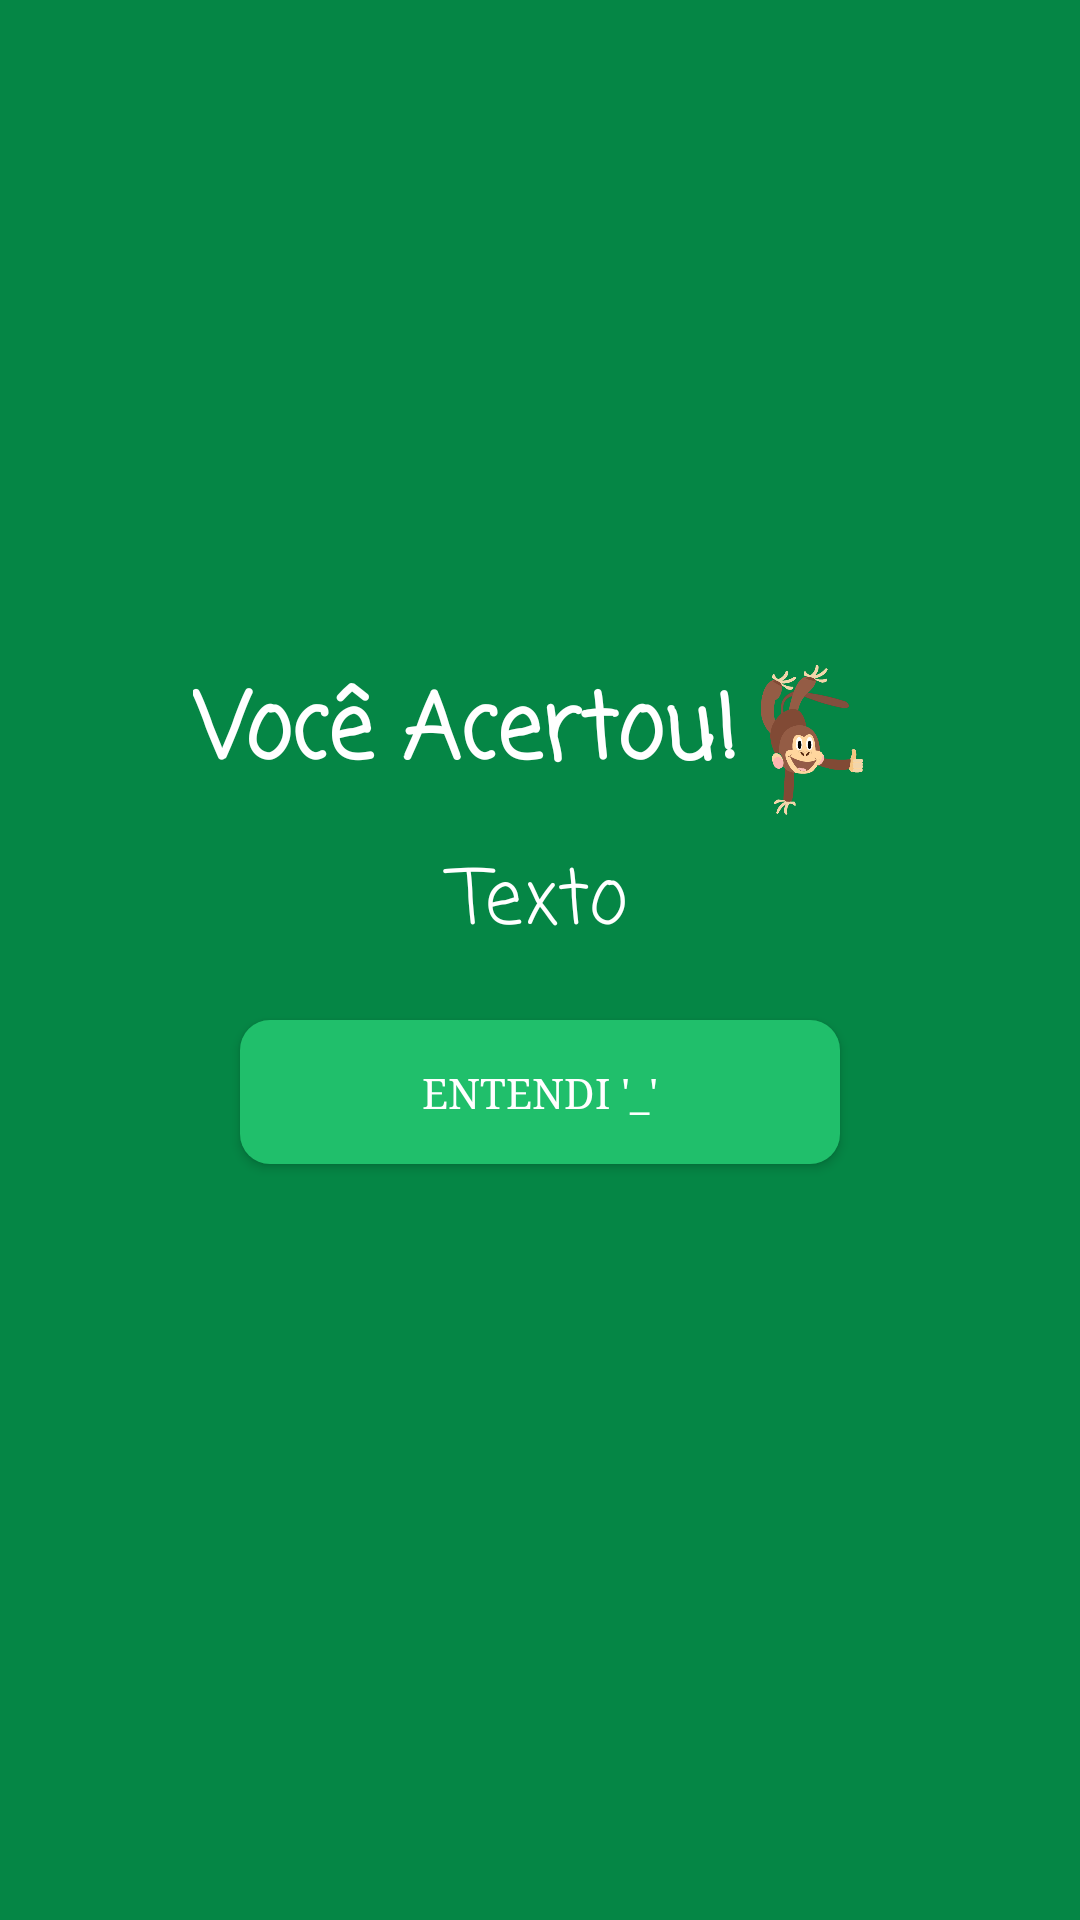

Icon bounding boxes for this 1080px x 1920px phone screenshot, format (x1,y1,x2,y2):
macaco joinha: (761,665,863,815)
